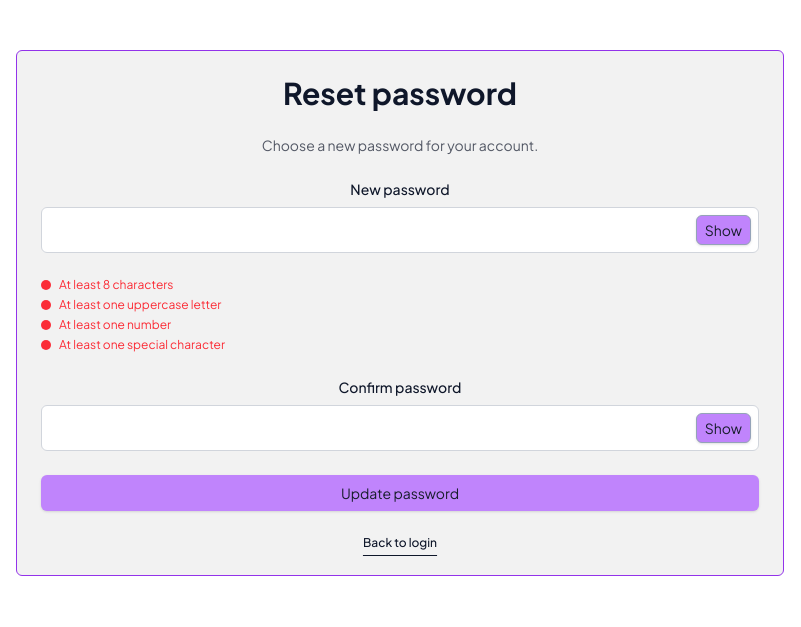
Test case: ResetPassword › submits when valid and shows success
This screenshot has width=801, height=627.
Type "Abcd1234!" into the password field labelled "New password" at (400, 230), box [41,207,759,253]
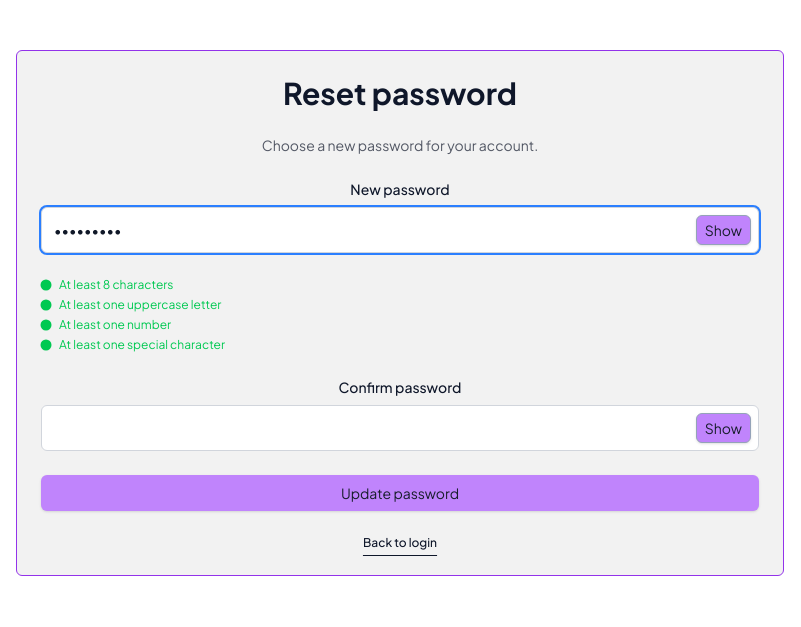
Type "Abcd1234!" into the password field labelled "Confirm password" at (400, 428), box [41,405,759,451]
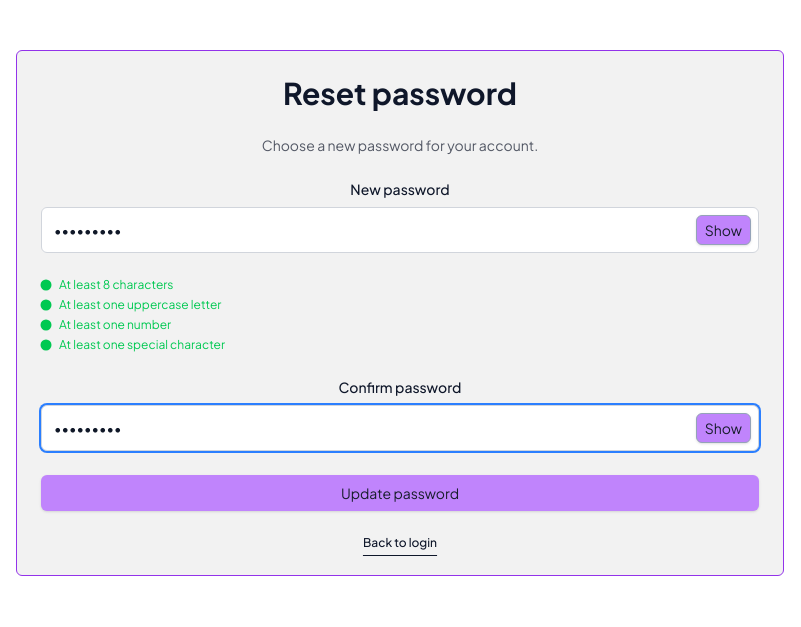
Click the button "Update password" at (400, 493), box [41,475,759,511]
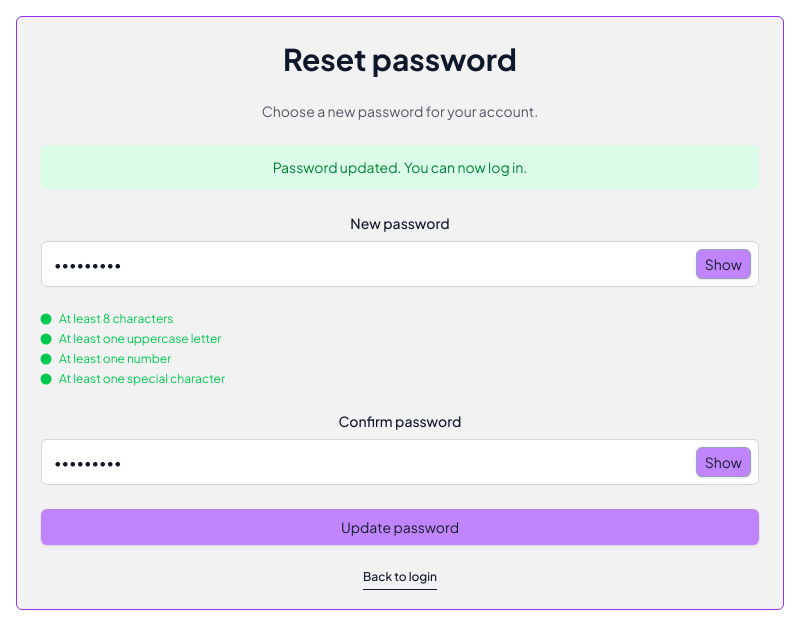
Check: the text "Password updated. You can now log in." is shown, box [41,145,759,189]
